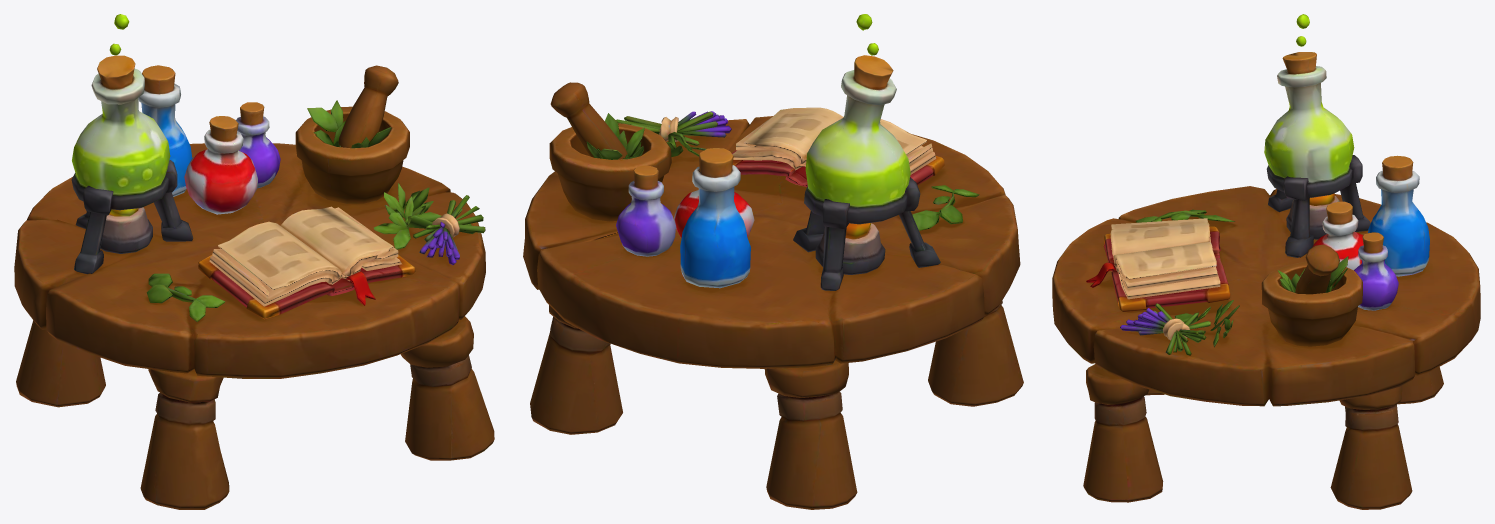
File: atelier_table_chimie.glb
3 views of the same model, side by side, from view 1: azimuth 30°, elevation 25°; view 2: azimuth 150°, elevation 25°; view 3: azimuth 270°, elevation 25° (orthographic). The views are drawn at different scales.
Visible parts, largest first — view 1: geometry_0; view 2: geometry_0; view 3: geometry_0.
Part boxes in pixels (x1,y1,x2,y2): geometry_0: (14,14,494,509); geometry_0: (523,14,1023,509); geometry_0: (1052,14,1480,509).
Bounding box in the file's own units: 0.9639 × 0.9282 × 0.958.
Materials: 1 (1 with a texture image).
